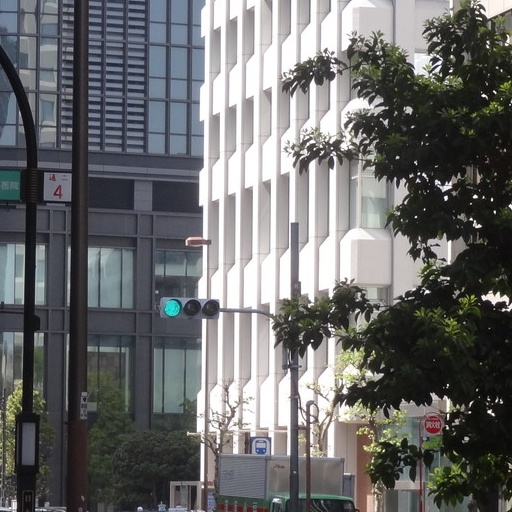Traffic_Signal_Blue: (155, 290, 229, 318)
